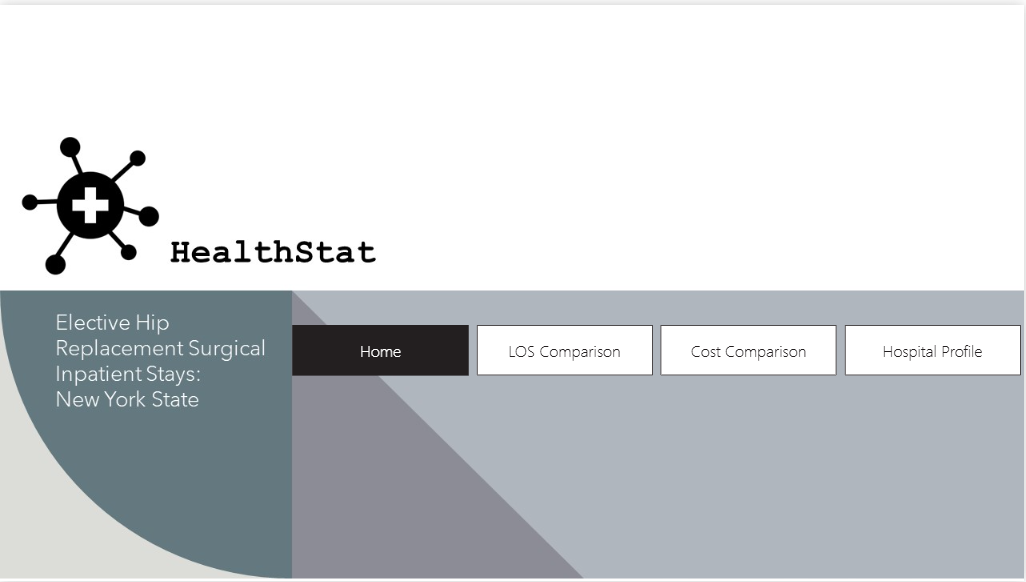

Layout of this report page (visuals, bound fields, positions):
{"tool":"powerbi","page":{"name":"Home","canvas":[1280,720],"ordinal":0},"visuals":[{"type":"pageNavigator","box":[365.5,400,913.8,63.8],"z":0}]}

Visuals, with their boxes in screenshot pixels (x1, y1, x2, y2), scaled from the page's 1280x720 canvas onto the 1026x582 screenshot:
pageNavigator: x1=293, y1=323, x2=1025, y2=375
